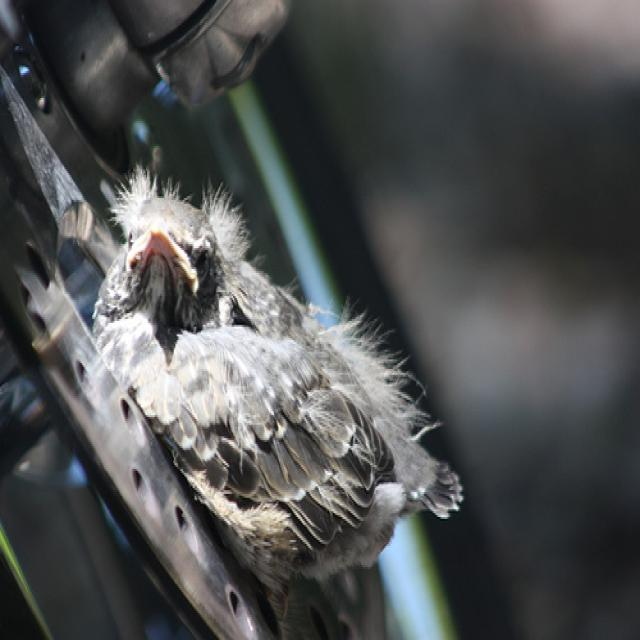motor: (4, 5, 446, 632)
